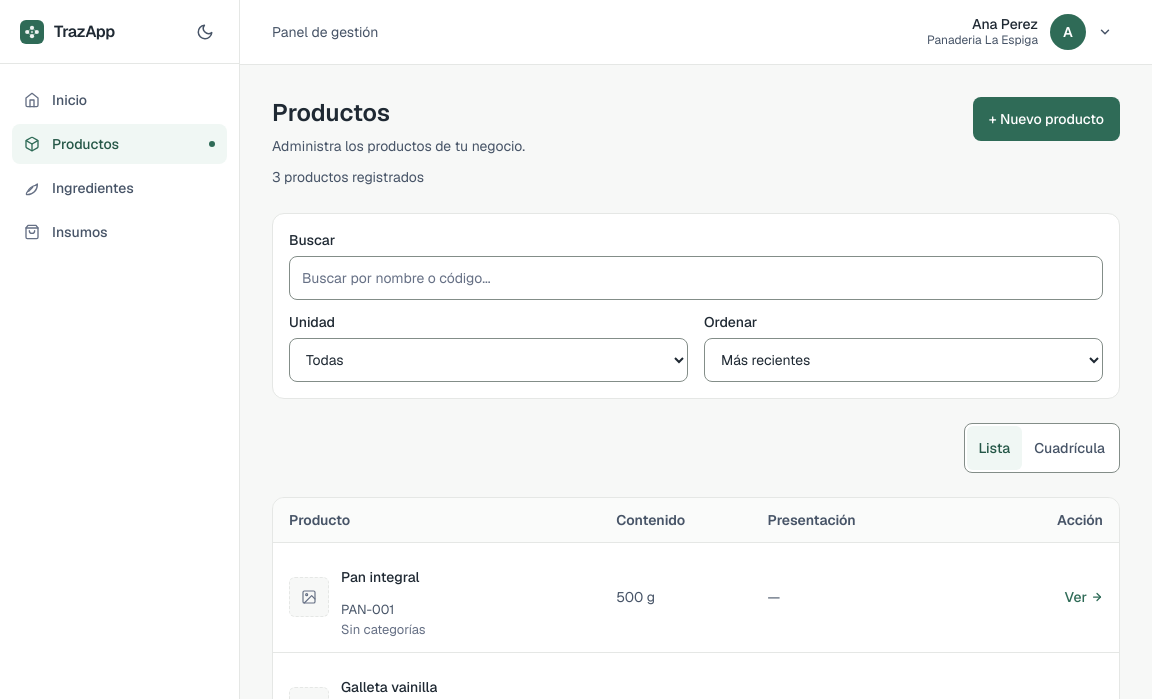
Test: Productos HU01 — listado y navegación › muestra presentación null como guión y permite navegar al detalle
expect the heading "Productos" is shown: met, box [272, 97, 390, 129]
expect the text "—" is shown: met, box [752, 542, 1002, 652]
Click the link with aria-label "Ver producto Pan integral": (380, 576) [341, 568, 420, 586]
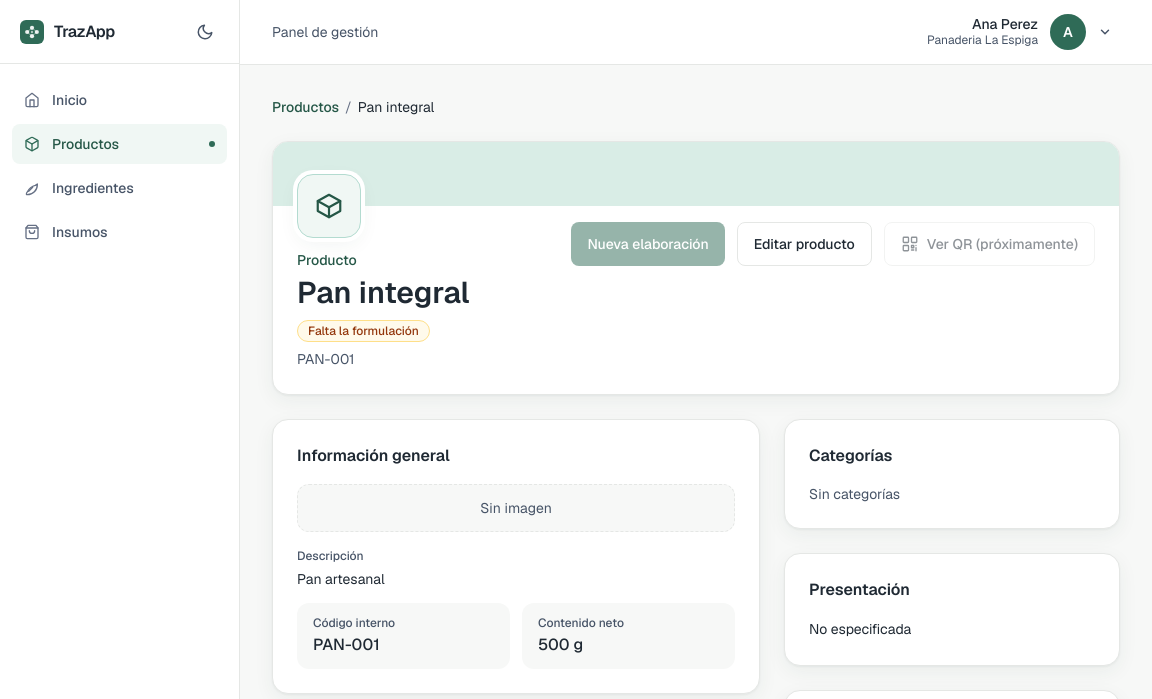
expect the heading "Pan integral" is shown: met, box [297, 274, 470, 312]
expect the text "No especificada" is shown: met, box [809, 620, 911, 638]
